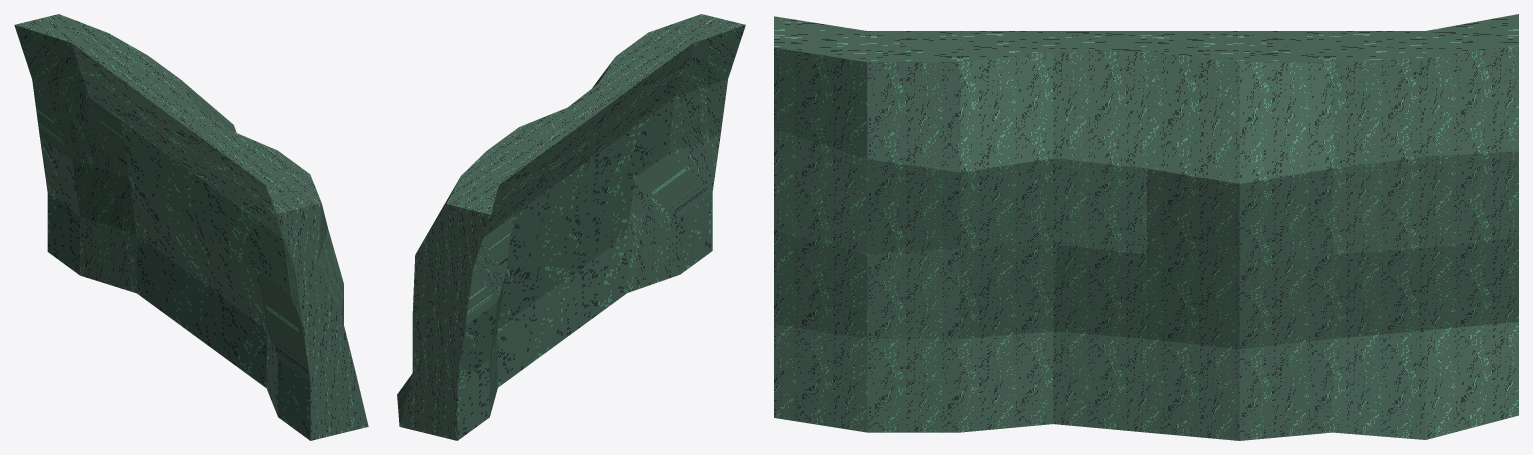
The model's file is Kliff.fbx.
3 renders of one model, left to right at view 1: azimuth 30°, elevation 25°; view 2: azimuth 150°, elevation 25°; view 3: azimuth 270°, elevation 25°, orthographic. The views are drawn at different scales.
Parts seen in each view (by area): view 1: Cube; view 2: Cube; view 3: Cube.
Part boxes in pixels (box(x1,y1,x2,y2)): Cube: box(14, 14, 368, 440); Cube: box(397, 14, 745, 440); Cube: box(774, 14, 1518, 440).
Bounding box in the file's own units: 1707 × 3000 × 6000.
